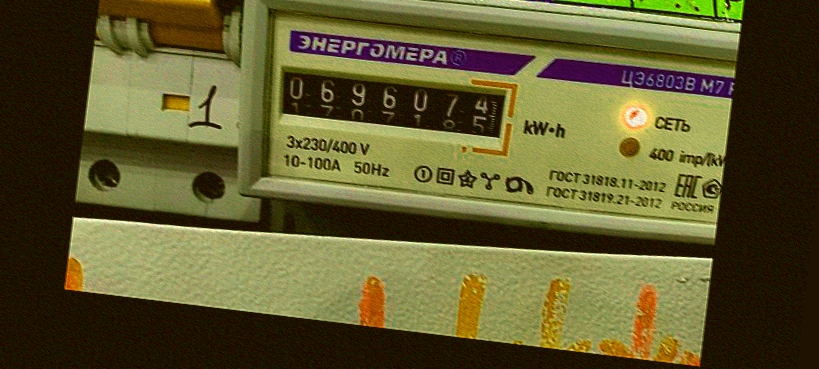0: (285, 72, 306, 99), (410, 84, 429, 112)
4: (472, 91, 489, 113)
5: (470, 112, 486, 133)
6: (316, 75, 337, 102), (379, 80, 398, 109)
7: (441, 89, 460, 117)
9: (347, 79, 367, 106)
screen: (267, 50, 521, 156)
